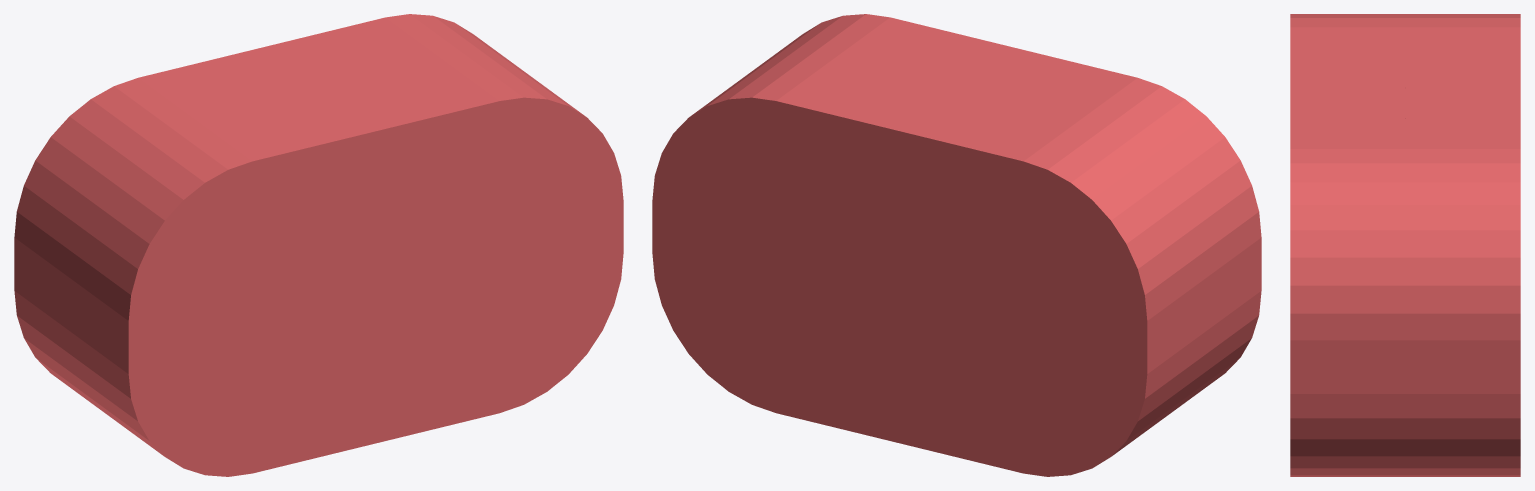
Rendered from SpamRaw.fbx.
3 views of the same model, side by side, from view 1: azimuth 30°, elevation 25°; view 2: azimuth 150°, elevation 25°; view 3: azimuth 270°, elevation 25° (orthographic).
Parts seen in each view (by area): view 1: SpamSlice1, SpamSlice5, SpamSlice6, SpamSlice7, SpamSlice2, SpamSlice4, SpamSlice8, SpamSlice3; view 2: SpamSlice8, SpamSlice4, SpamSlice3, SpamSlice2, SpamSlice7, SpamSlice5, SpamSlice1, SpamSlice6; view 3: SpamSlice4, SpamSlice5, SpamSlice1, SpamSlice2, SpamSlice3, SpamSlice6, SpamSlice7, SpamSlice8.
Part boxes in pixels (x1,y1,x2,y2): SpamSlice1: (114,87,623,476); SpamSlice5: (57,45,528,413); SpamSlice6: (43,35,513,403); SpamSlice7: (28,24,499,392); SpamSlice2: (100,76,570,445); SpamSlice4: (71,56,542,424); SpamSlice8: (14,14,485,382); SpamSlice3: (86,66,556,434); SpamSlice8: (652,87,1161,476); SpamSlice4: (747,45,1218,413); SpamSlice3: (762,35,1232,403); SpamSlice2: (776,24,1247,392); SpamSlice7: (705,76,1175,445); SpamSlice5: (733,56,1204,424); SpamSlice1: (790,14,1261,382); SpamSlice6: (719,66,1189,434); SpamSlice4: (1376,14,1405,476); SpamSlice5: (1405,14,1434,476); SpamSlice1: (1290,14,1318,476); SpamSlice2: (1319,14,1347,476); SpamSlice3: (1348,14,1376,476); SpamSlice6: (1434,14,1462,476); SpamSlice7: (1463,14,1491,476); SpamSlice8: (1492,14,1520,476).
Size of the model in its own units: 400 by 241 by 160.
